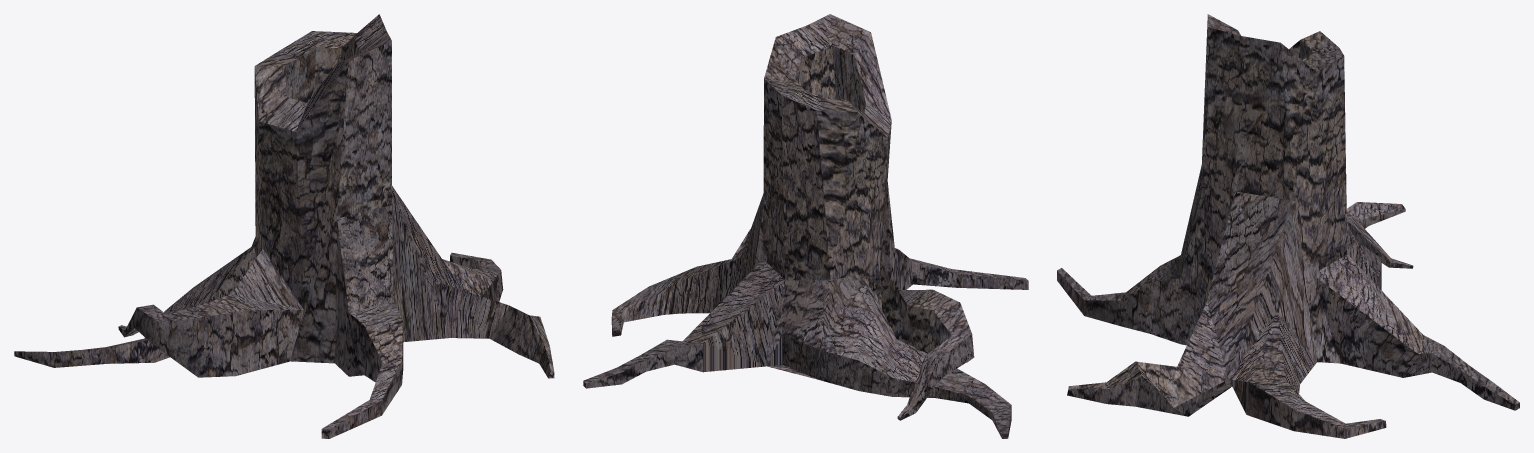
The model's file is TREE_HALF_001.fbx.
3 renders of one model, left to right at view 1: azimuth 30°, elevation 25°; view 2: azimuth 150°, elevation 25°; view 3: azimuth 270°, elevation 25°, orthographic. The views are drawn at different scales.
Visible parts, largest first — view 1: TREE; view 2: TREE; view 3: TREE.
Boxes of the visible parts, <box> form: TREE: <box>14,14,554,438</box>; TREE: <box>583,14,1028,438</box>; TREE: <box>1057,14,1519,438</box>.
Size of the model in its own units: 2.04 by 1.39 by 1.76.
1 material, 1 textured.
